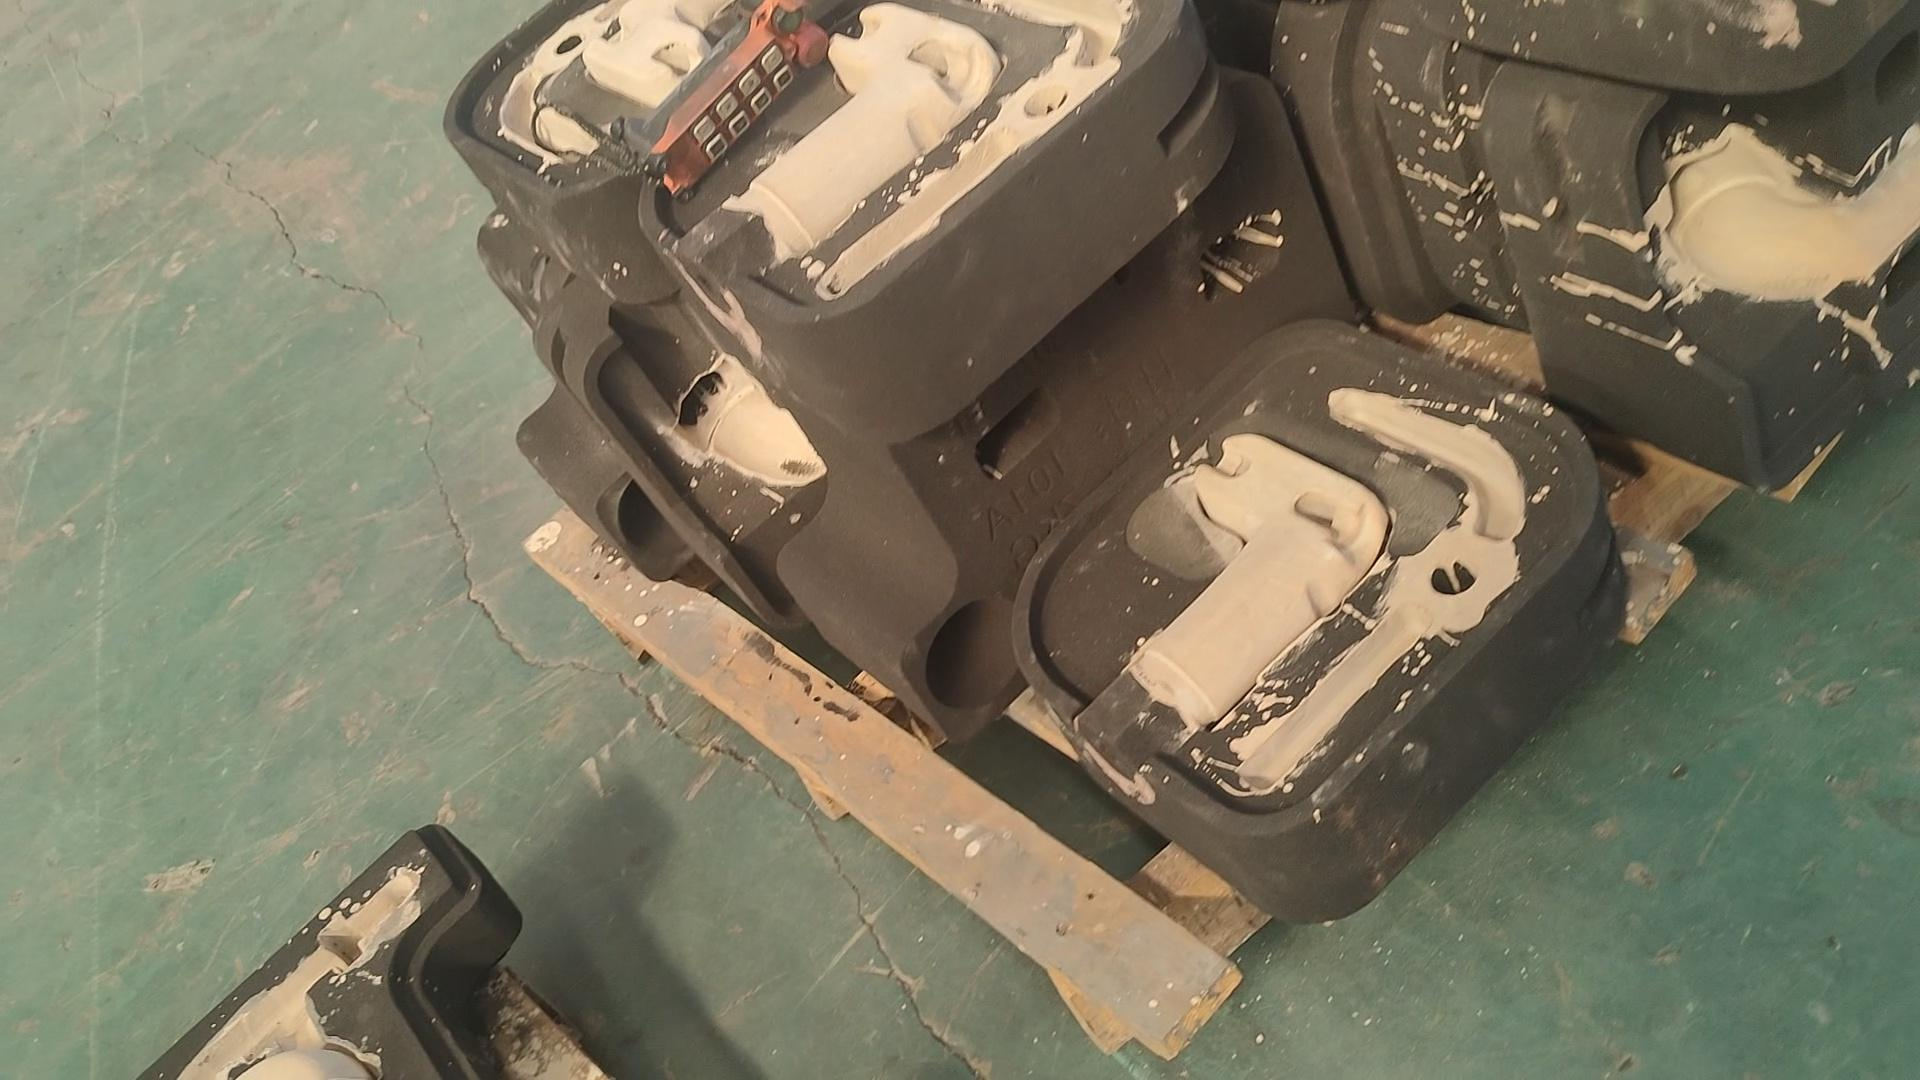pouring hole: (924, 596, 1023, 709), (618, 465, 711, 559)
